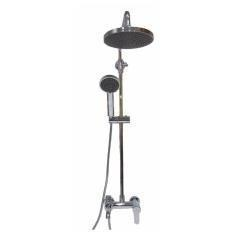Ducha: (80, 8, 156, 232)
